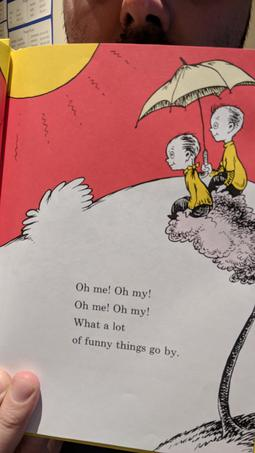text block: (59, 274, 194, 366)
